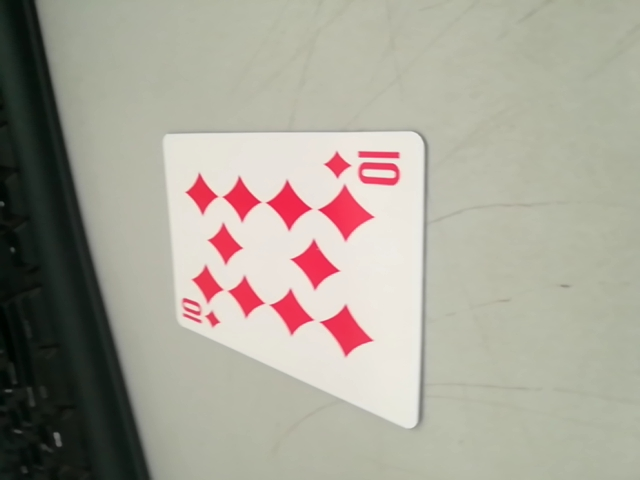fk 10: (324, 143, 409, 190), (173, 294, 225, 335)
